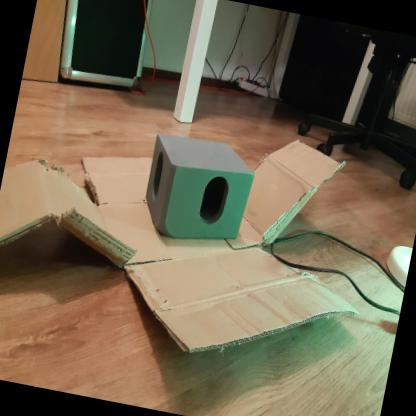CornerCasting: (136, 128, 260, 248)
